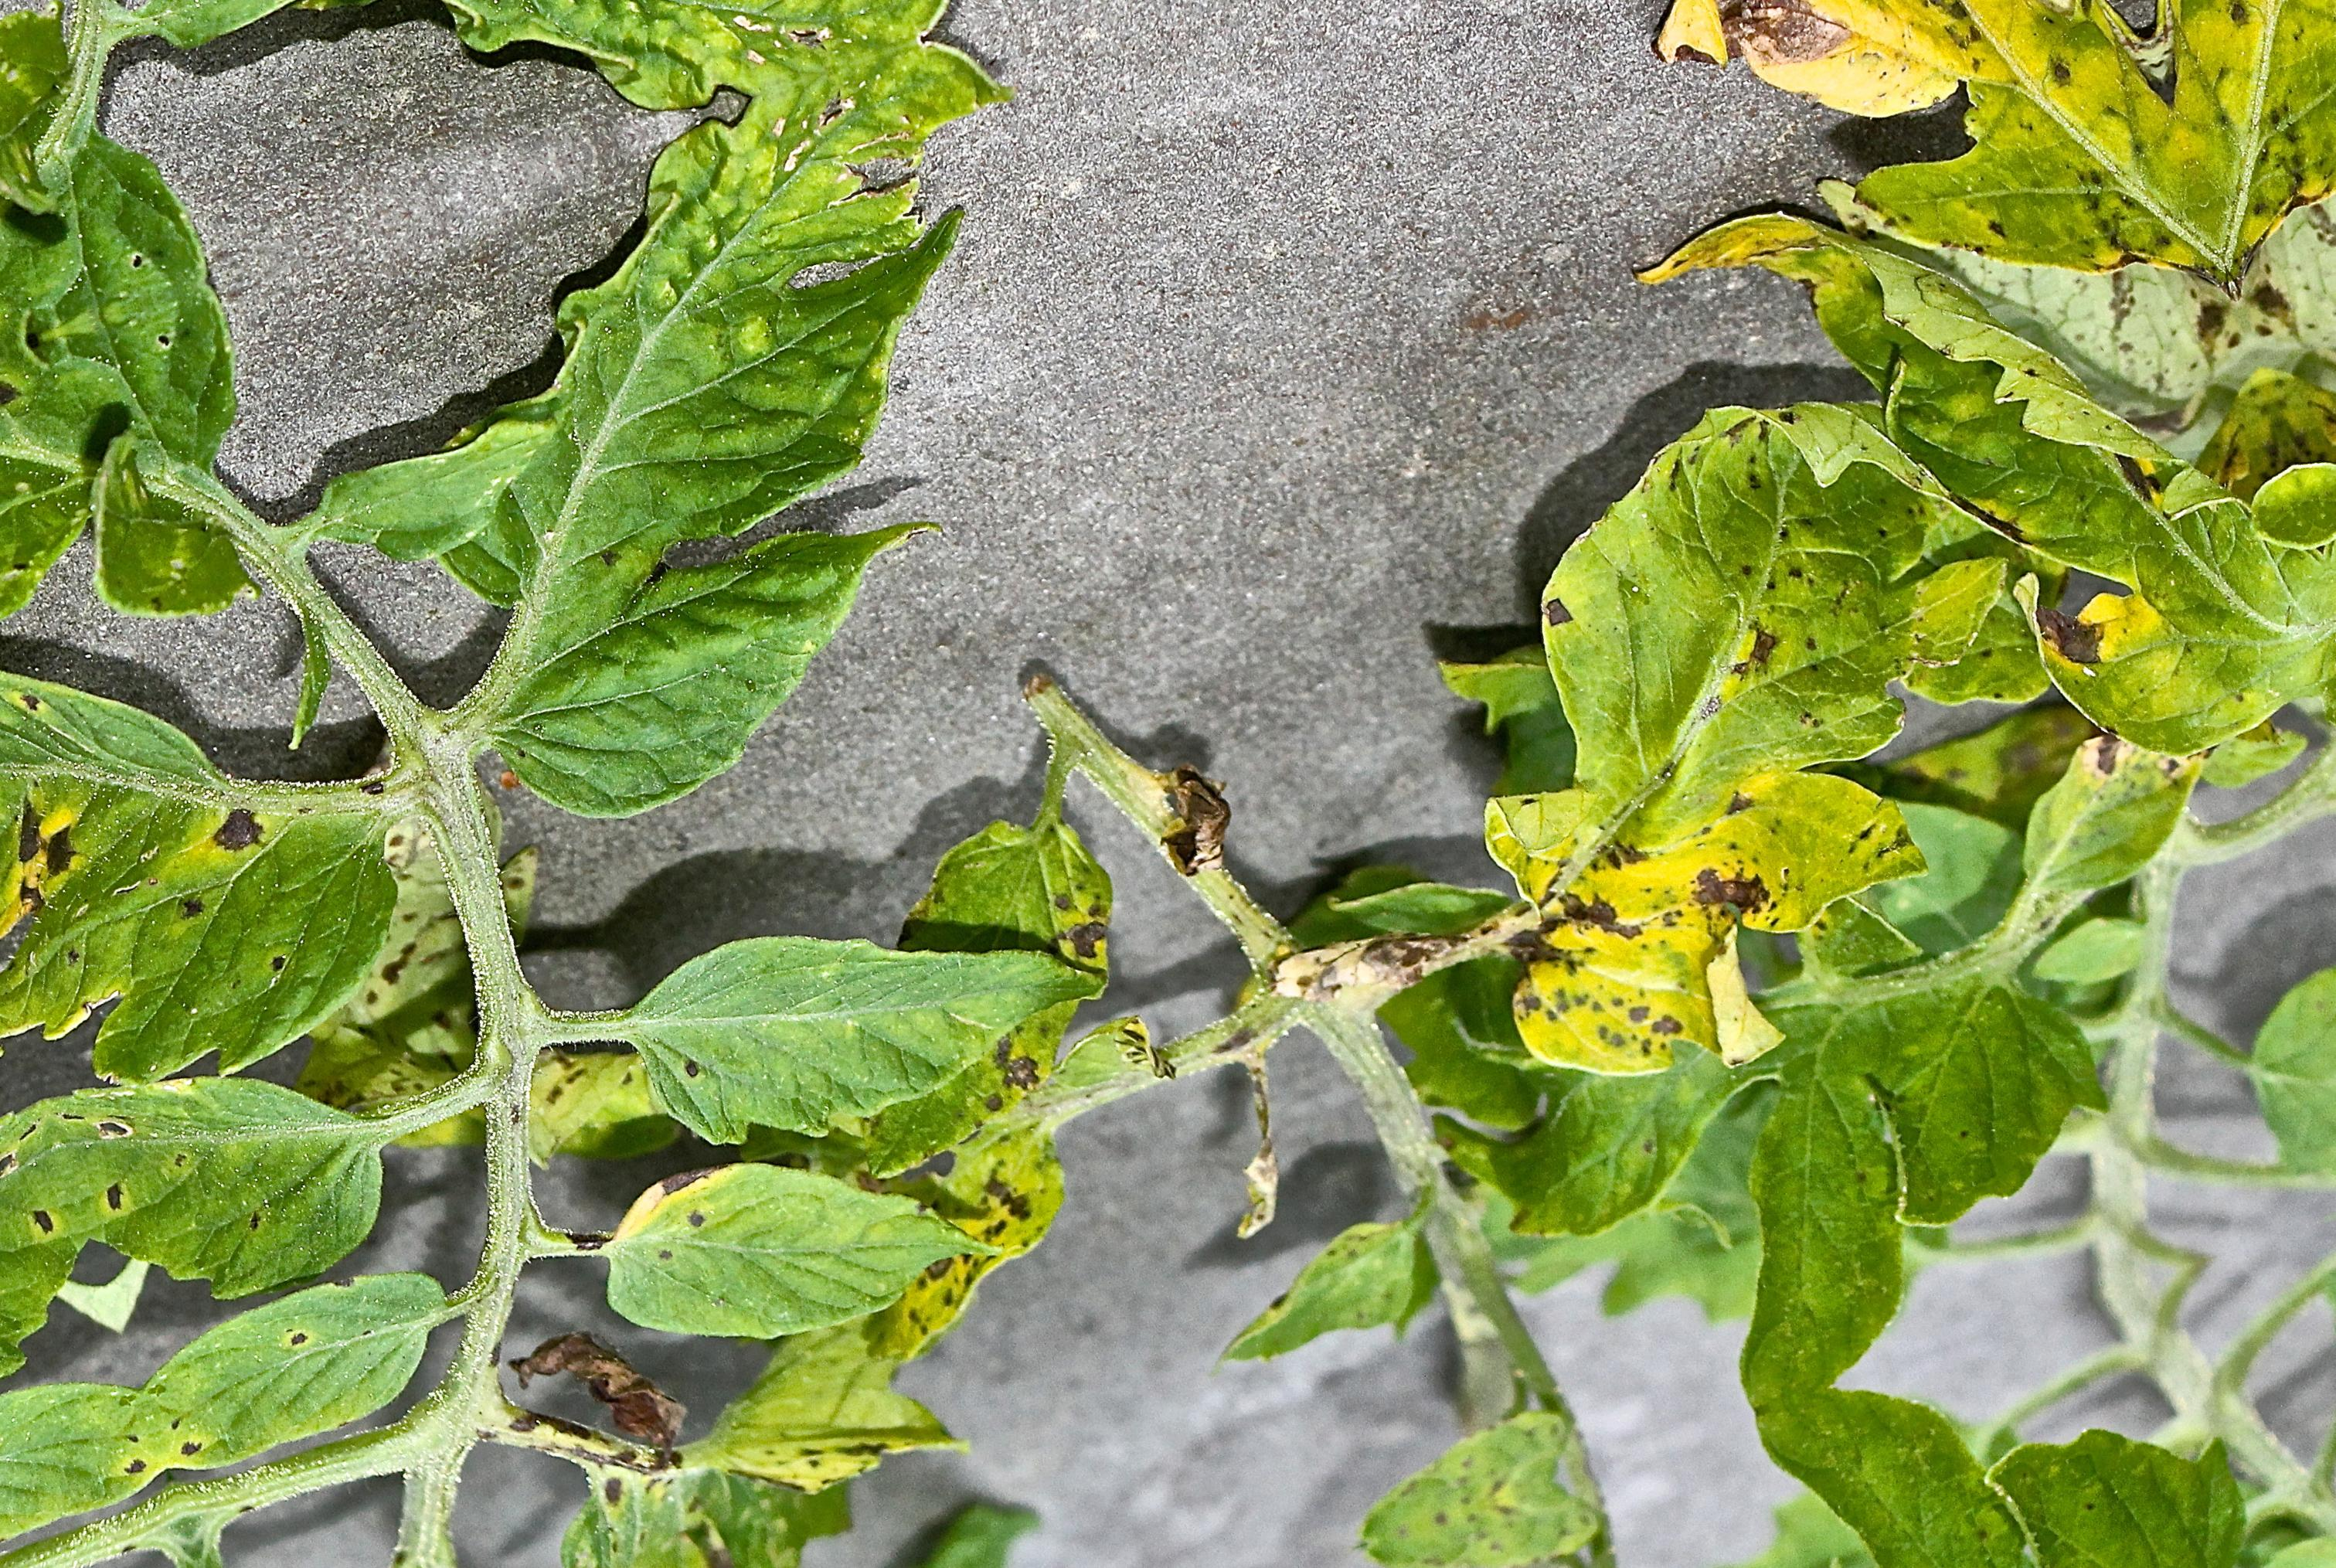Tomato Septoria leaf spot: (287, 13, 1196, 835), (1296, 376, 2061, 1108), (1622, 0, 2255, 507), (0, 515, 461, 1120)
